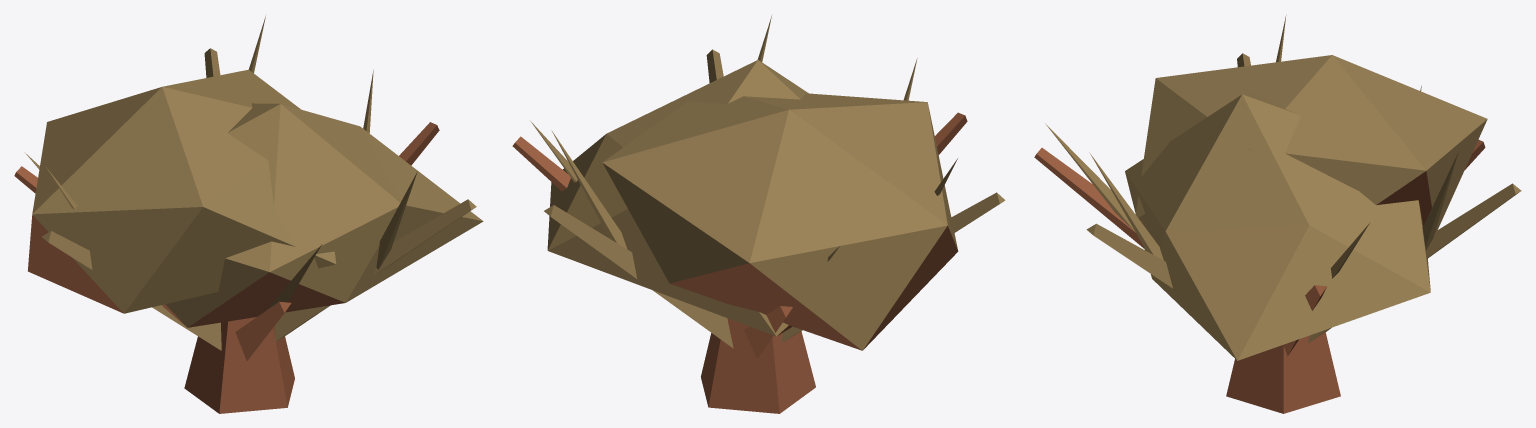
The model's file is desert_shrub.glb.
3 renders of one model, left to right at view 1: azimuth 30°, elevation 25°; view 2: azimuth 150°, elevation 25°; view 3: azimuth 270°, elevation 25°, orthographic. The views are drawn at different scales.
Visible parts, largest first — view 1: desert_shrub; view 2: desert_shrub; view 3: desert_shrub.
Part boxes in pixels (<box>): desert_shrub: <box>14,16,483,413</box>; desert_shrub: <box>512,15,1005,413</box>; desert_shrub: <box>1034,15,1521,413</box>.
Bounding box in the file's own units: 0.7614 × 0.5014 × 0.7259.
1 material, 1 textured.
